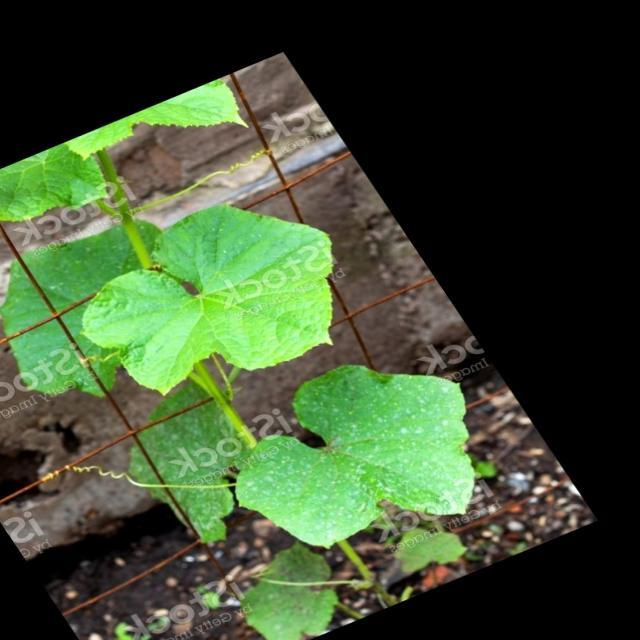Leaf_Mold: (236, 368, 469, 542), (126, 391, 264, 536)
